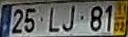1: (103, 3, 113, 32)
2: (11, 6, 23, 34)
5: (23, 7, 36, 33)
8: (88, 4, 103, 32)
J: (61, 4, 75, 32)
L: (48, 6, 59, 32)
